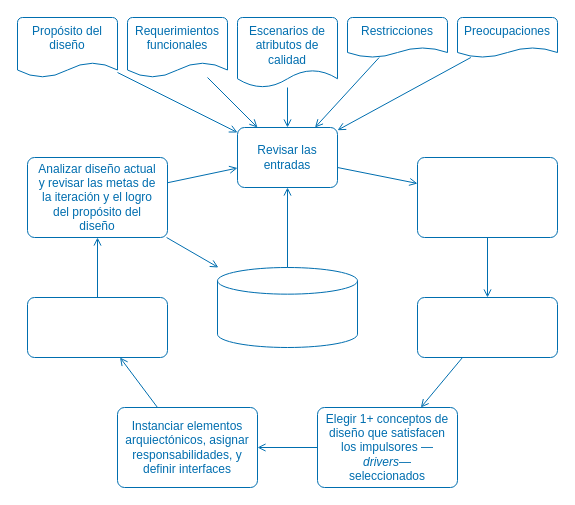
The diagram is 575 pixels wide and 505 high, and some of its shapes have lost their labels. The shapes that lost their labels are listed below. From the top down, each one's centre as x and y in pixels, then its label:
At point (487, 197): "Establecer las metas de la iteración seleccionando impulsores — drivers —".
At point (97, 327): "Bocetar vistas y registrar las decisiones arquitectónicas".
At point (287, 307): "Diseño de la arquitectura de software —refinado—".
At point (487, 327): "Seleccionar uno más elementos del sistema para refinar".
